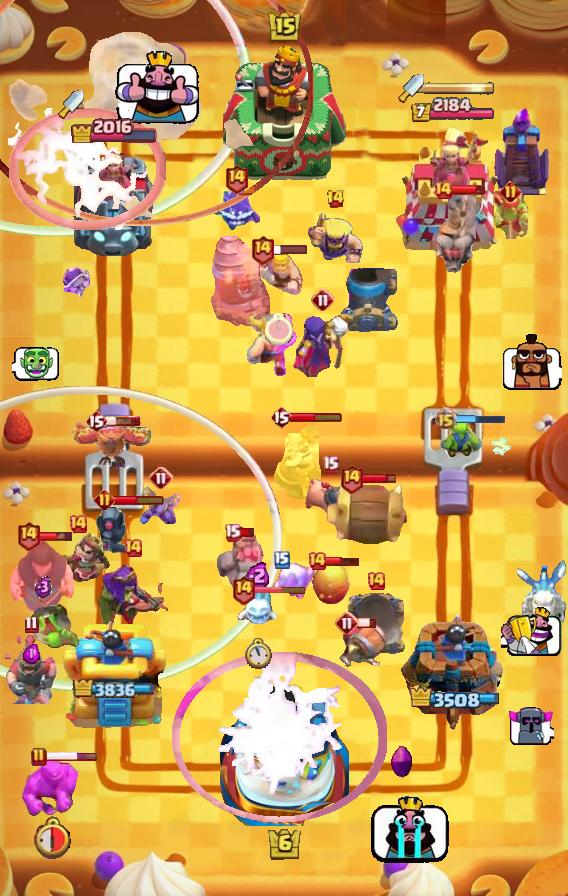bar: (112, 494, 165, 506), (290, 411, 343, 423), (454, 413, 506, 425), (44, 751, 98, 762), (253, 585, 307, 594), (362, 472, 397, 485), (105, 415, 141, 427), (272, 243, 308, 255), (450, 184, 486, 196), (39, 530, 74, 542), (325, 556, 361, 567), (357, 617, 377, 629), (239, 527, 256, 538)
bar-level: (231, 574, 256, 605), (16, 520, 41, 551), (339, 463, 364, 494), (250, 234, 275, 265), (224, 163, 249, 194), (335, 611, 359, 635), (149, 466, 173, 490), (311, 288, 335, 312), (434, 407, 457, 430), (85, 409, 107, 433), (270, 405, 292, 429), (94, 489, 115, 510), (500, 181, 521, 202), (366, 571, 386, 591), (307, 551, 327, 571), (123, 538, 143, 558), (68, 514, 88, 534), (433, 180, 453, 200), (326, 189, 345, 209), (224, 523, 241, 542), (322, 455, 339, 474), (31, 747, 47, 767), (274, 551, 290, 569), (24, 615, 39, 634)
barbarian: (254, 251, 304, 297)
barbarian-barrel: (325, 480, 415, 548)
barbarian-evolution: (304, 208, 366, 264)
clock: (30, 815, 71, 859), (265, 313, 293, 345), (245, 638, 272, 670)
dagger-duchess-tower: (394, 126, 512, 256), (70, 142, 158, 256)
dagger-duchess-tower-bar: (424, 81, 496, 95)
electro-spirit: (210, 187, 262, 231)
elite-barbarian: (246, 311, 297, 377)
elixir: (245, 561, 271, 590), (35, 576, 52, 598), (23, 643, 40, 664)
elixir-golem-mid: (22, 758, 78, 818)
emote: (115, 50, 200, 126), (370, 791, 450, 864), (501, 333, 562, 391), (501, 607, 562, 656), (508, 705, 554, 746), (12, 346, 60, 382)
evolution-symbol: (391, 745, 413, 779)
goblin: (439, 417, 483, 459)
goblin-ball: (29, 603, 83, 651)
golemite: (214, 535, 272, 599)
ice-spirit: (236, 590, 280, 628)
ice-spirit-evolution: (268, 561, 318, 599)
king-tower: (220, 678, 349, 826), (223, 44, 346, 181)
little-prince: (44, 530, 113, 586)
mini-pekka: (93, 504, 143, 558)
minion: (139, 486, 183, 532)
mortar: (344, 591, 408, 657), (338, 268, 398, 332)
phoenix-egg: (311, 562, 351, 606)
queen-tower: (401, 612, 505, 731), (60, 617, 168, 731)
ram-rider: (432, 189, 476, 275)
royal-hog: (303, 477, 357, 523)
royal-recruit: (3, 632, 59, 704)
skeleton-evolution: (61, 266, 93, 300)
spear-goblin: (492, 191, 528, 239)
tower-bar: (70, 115, 159, 143), (407, 685, 499, 711), (410, 97, 496, 124), (73, 680, 156, 698)
wall-breaker: (335, 621, 389, 673)
witch: (291, 311, 355, 377)
